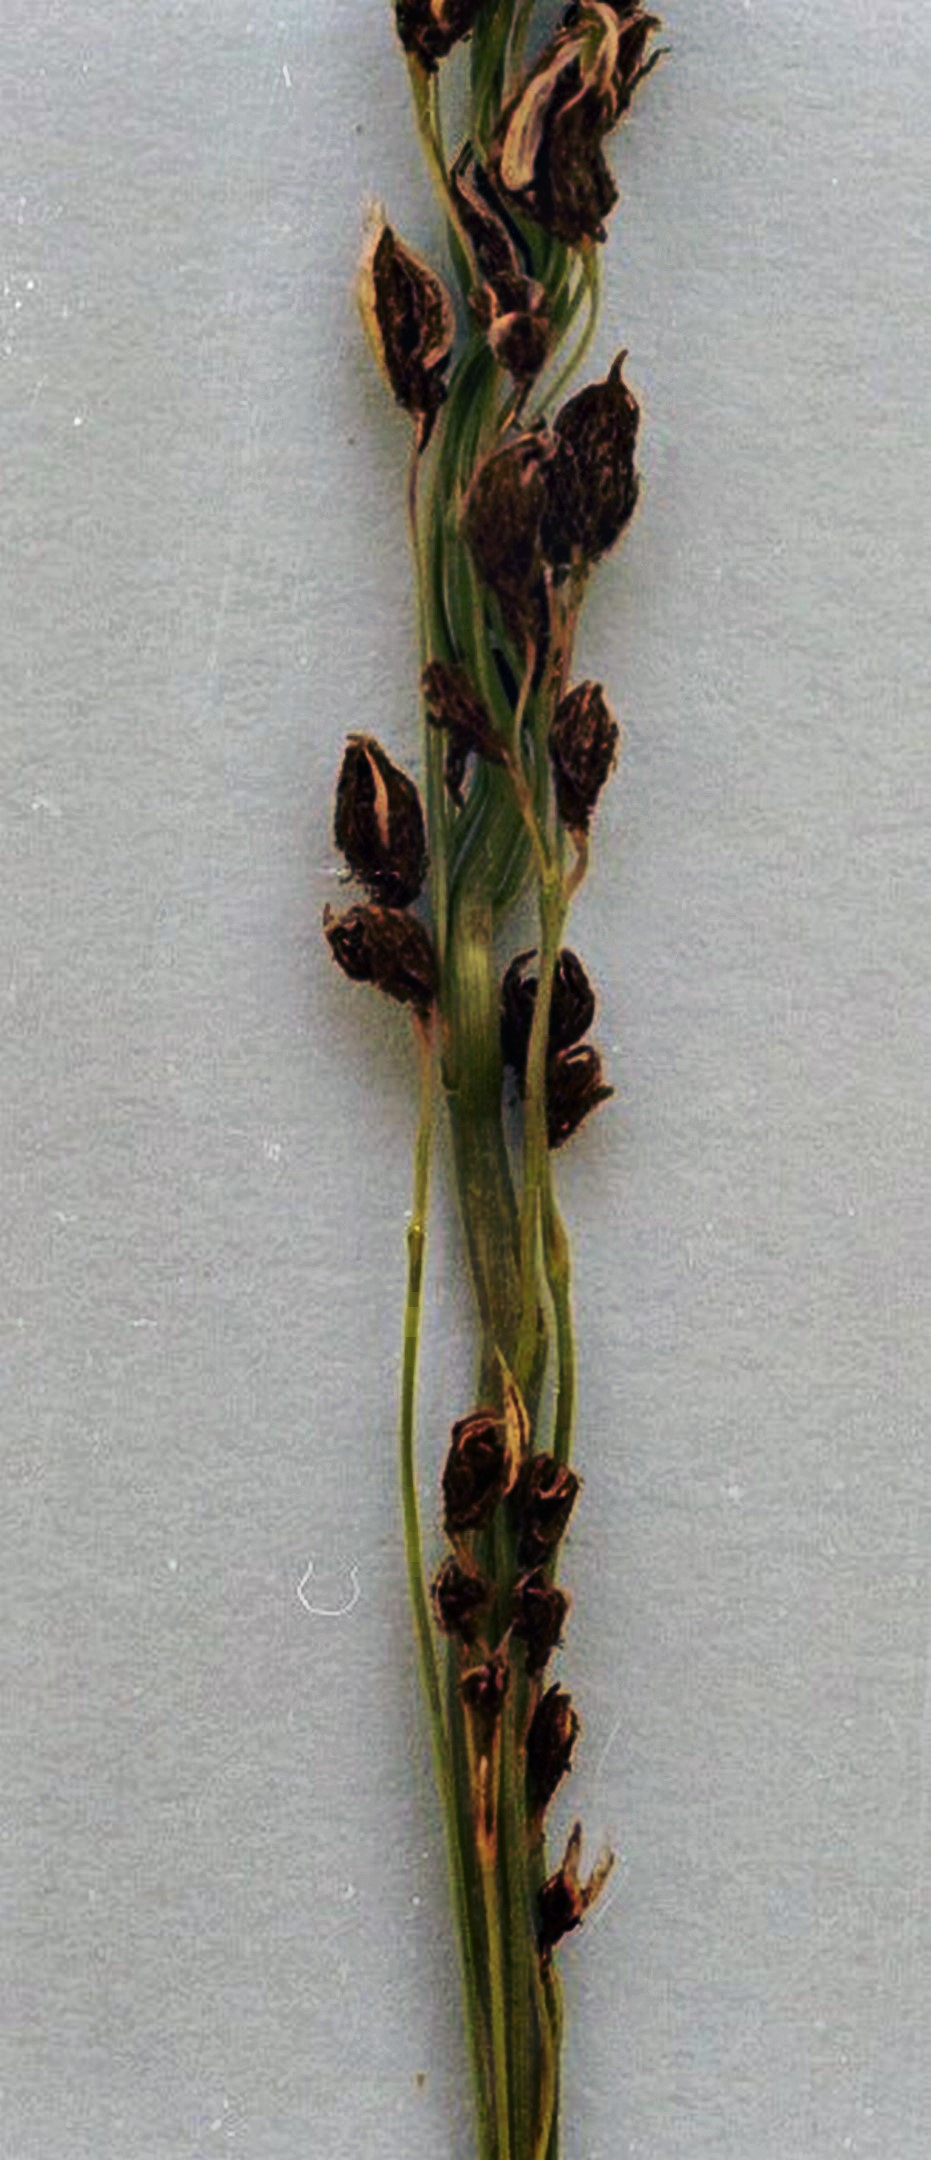Wheat Loose Smut: (278, 59, 789, 1194)
